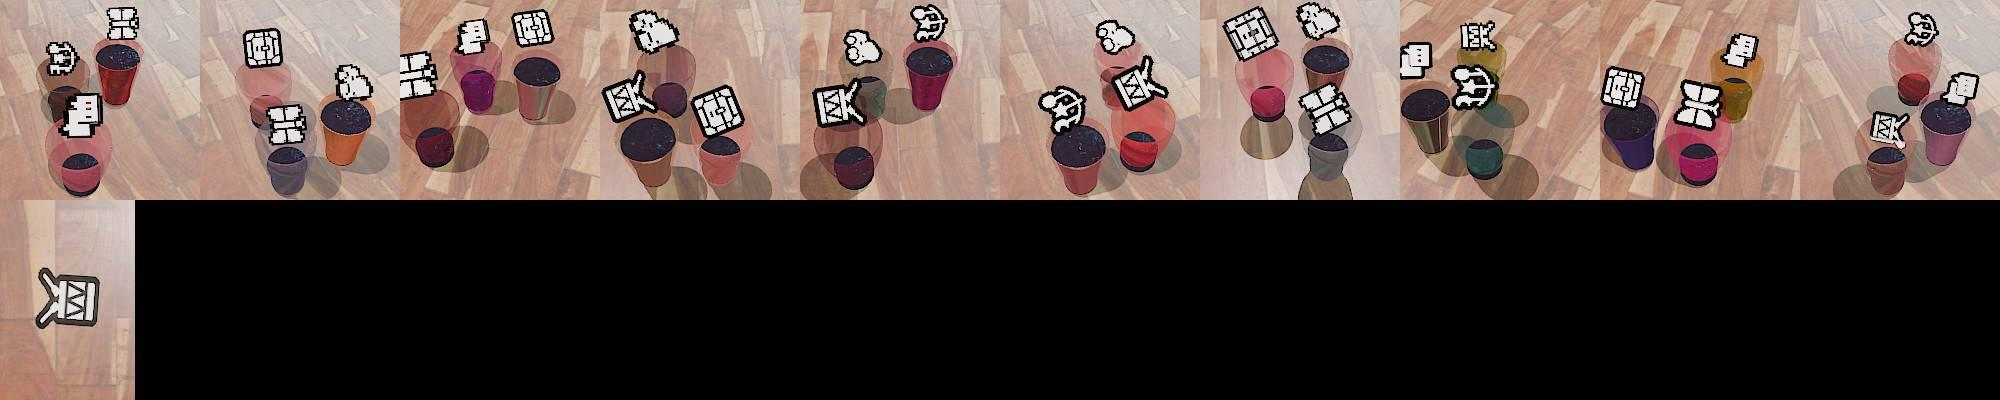icon: (34, 267, 101, 328), (1109, 53, 1169, 113), (601, 69, 658, 125), (1223, 6, 1277, 63), (1298, 81, 1353, 135), (691, 84, 745, 139), (1037, 84, 1088, 136), (1675, 78, 1724, 131), (812, 81, 866, 129), (628, 9, 679, 54), (1449, 65, 1496, 112), (1600, 65, 1646, 112), (264, 100, 308, 147), (60, 91, 103, 138), (399, 49, 438, 99), (1295, 1, 1340, 41), (242, 28, 284, 70), (511, 10, 554, 50), (333, 63, 374, 102), (909, 3, 950, 42), (843, 28, 883, 67), (1095, 19, 1135, 55), (1721, 32, 1759, 69), (1869, 110, 1908, 146), (455, 18, 491, 56), (1943, 71, 1981, 106), (1399, 42, 1433, 81), (1904, 11, 1938, 48), (105, 6, 141, 40), (1460, 19, 1497, 52), (45, 40, 77, 77)
